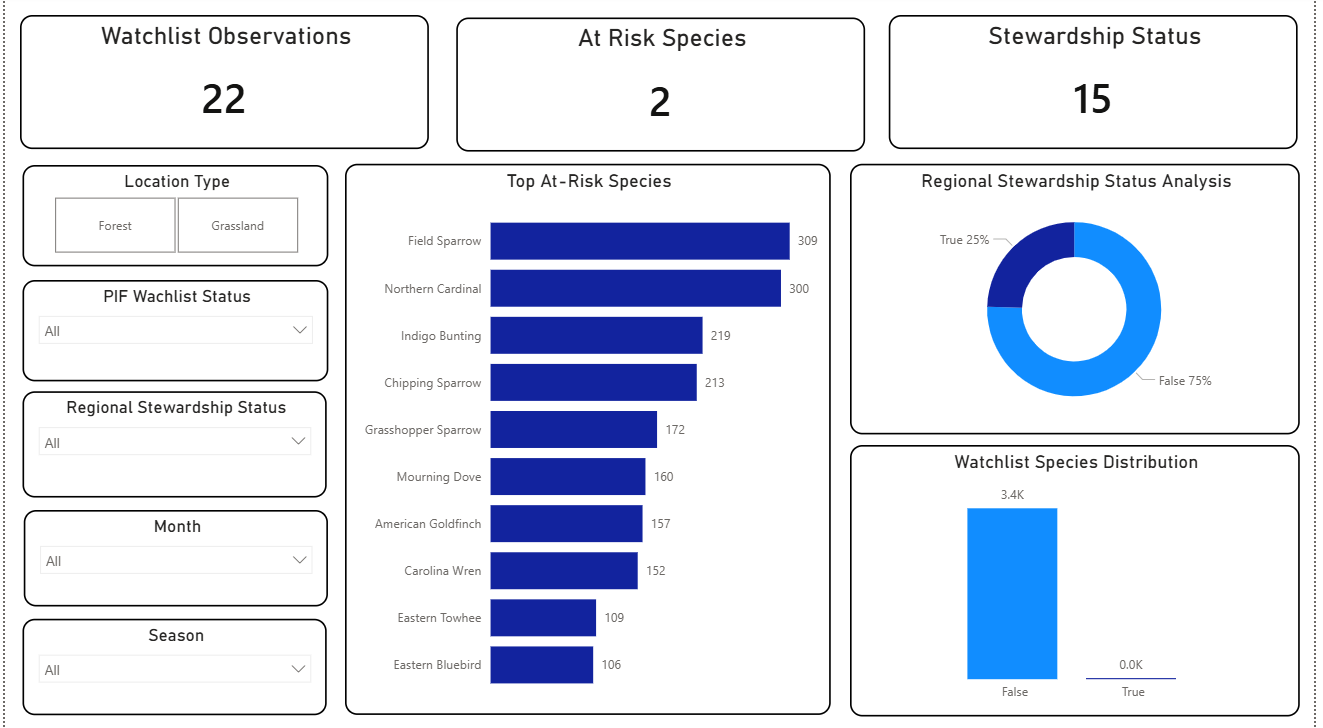

The page's visual inventory and layout, read from the dashboard file:
{"tool":"powerbi","page":{"name":"3 - Conservation Insights","canvas":[1280,720],"ordinal":2},"visuals":[{"type":"cardVisual","title":"Stewardship Status","fields":{"Data":["Merge_on_Forest&Grassland.Stewardship Species"]},"box":[864.3,14.9,400.1,131.3],"z":0},{"type":"cardVisual","title":"At Risk Species","fields":{"Data":["Merge_on_Forest&Grassland.At Risk Species"]},"box":[441.3,16.8,400.1,131.3],"z":2},{"type":"cardVisual","title":"Watchlist Observations","fields":{"Data":["Merge_on_Forest&Grassland.Watchlist Observations"]},"box":[15.3,15.3,400.1,131.3],"z":3},{"type":"slicer","title":"Location Type","fields":{"Values":["Merge_on_Forest&Grassland.Location_Type"]},"box":[16.8,161.9,299.3,99.3],"z":4},{"type":"slicer","title":"PIF Wachlist Status","fields":{"Values":["Merge_on_Forest&Grassland.PIF_Watchlist_Status"]},"box":[16.8,273.4,299.3,99.3],"z":5},{"type":"slicer","title":"Regional Stewardship Status","fields":{"Values":["Merge_on_Forest&Grassland.Regional_Stewardship_Status"]},"box":[16.8,383.3,297.8,103.8],"z":6},{"type":"columnChart","title":"Watchlist Species Distribution","fields":{"Category":["Merge_on_Forest&Grassland.PIF_Watchlist_Status"],"Y":["Merge_on_Forest&Grassland.Total Observations"]},"box":[826.2,435.2,439.8,265.7],"z":7},{"type":"clusteredBarChart","title":"Top At-Risk Species","fields":{"Category":["Merge_on_Forest&Grassland.Common_Name"],"Y":["Merge_on_Forest&Grassland.Total Observations"]},"box":[332.9,160.3,474.9,539.1],"z":8},{"type":"donutChart","title":"Regional Stewardship Status Analysis","fields":{"Category":["Merge_on_Forest&Grassland.Regional_Stewardship_Status"],"Y":["Merge_on_Forest&Grassland.Total Observations"]},"box":[826.2,160.3,439.8,265],"z":9},{"type":"slicer","title":"Month","fields":{"Values":["Merge_on_Forest&Grassland.Month"]},"box":[18.3,499.4,297.8,94.7],"z":10},{"type":"slicer","title":"Season","fields":{"Values":["Merge_on_Forest&Grassland.Season"]},"box":[16.8,604.7,297.8,94.7],"z":11}]}

Visuals, with their boxes in screenshot pixels (x1, y1, x2, y2), scaled from the page's 1280x720 canvas onto the 1323x728 screenshot:
"Stewardship Status" cardVisual: l=893, t=15, r=1307, b=148
"At Risk Species" cardVisual: l=456, t=17, r=870, b=150
"Watchlist Observations" cardVisual: l=16, t=15, r=429, b=148
"Location Type" slicer: l=17, t=164, r=327, b=264
"PIF Wachlist Status" slicer: l=17, t=276, r=327, b=377
"Regional Stewardship Status" slicer: l=17, t=388, r=325, b=493
"Watchlist Species Distribution" columnChart: l=854, t=440, r=1309, b=709
"Top At-Risk Species" clusteredBarChart: l=344, t=162, r=835, b=707
"Regional Stewardship Status Analysis" donutChart: l=854, t=162, r=1309, b=430
"Month" slicer: l=19, t=505, r=327, b=601
"Season" slicer: l=17, t=611, r=325, b=707
